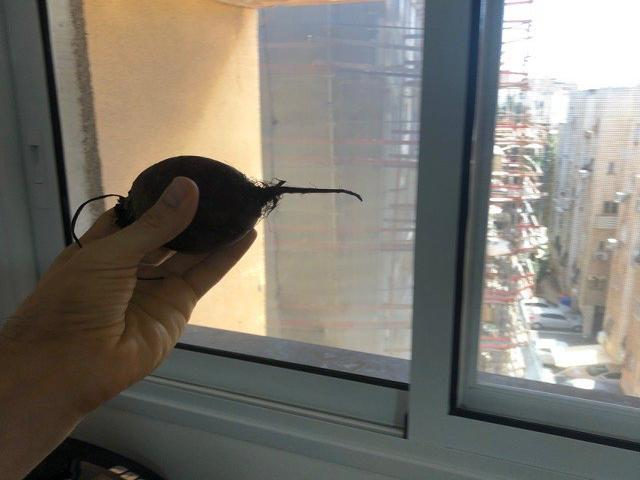beet: (71, 155, 363, 281)
